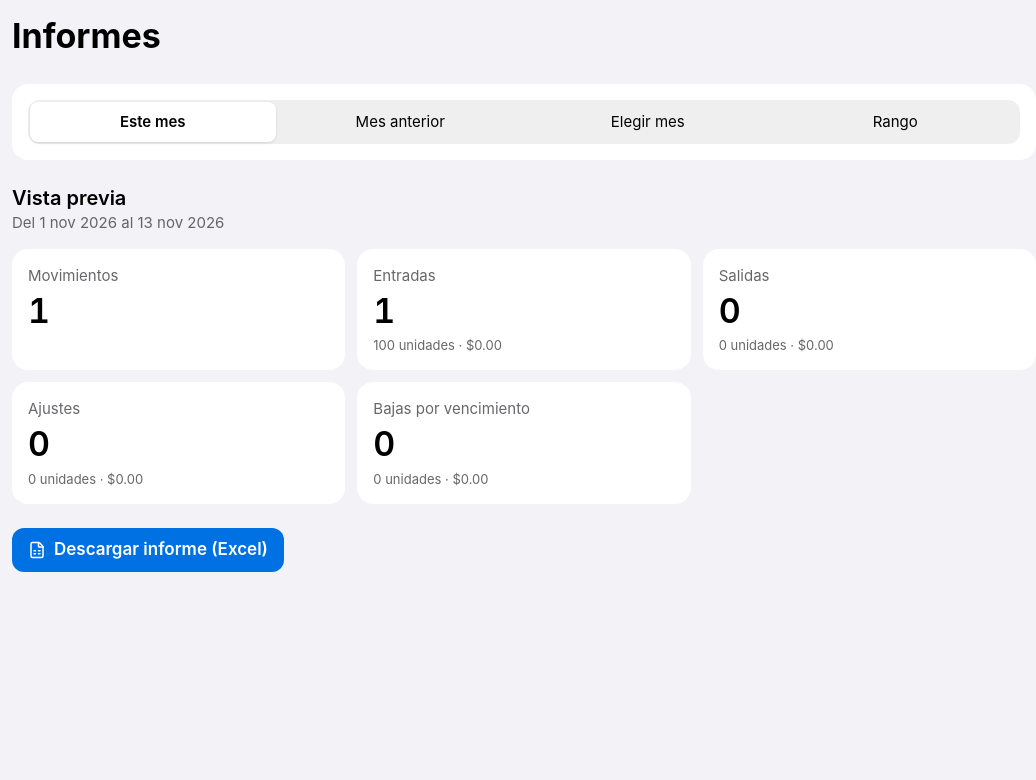
Test case: ReportsPage › downloads the generated file and revokes the object URL
Click the button "Descargar informe (Excel)" at (148, 550), box [12, 528, 284, 572]
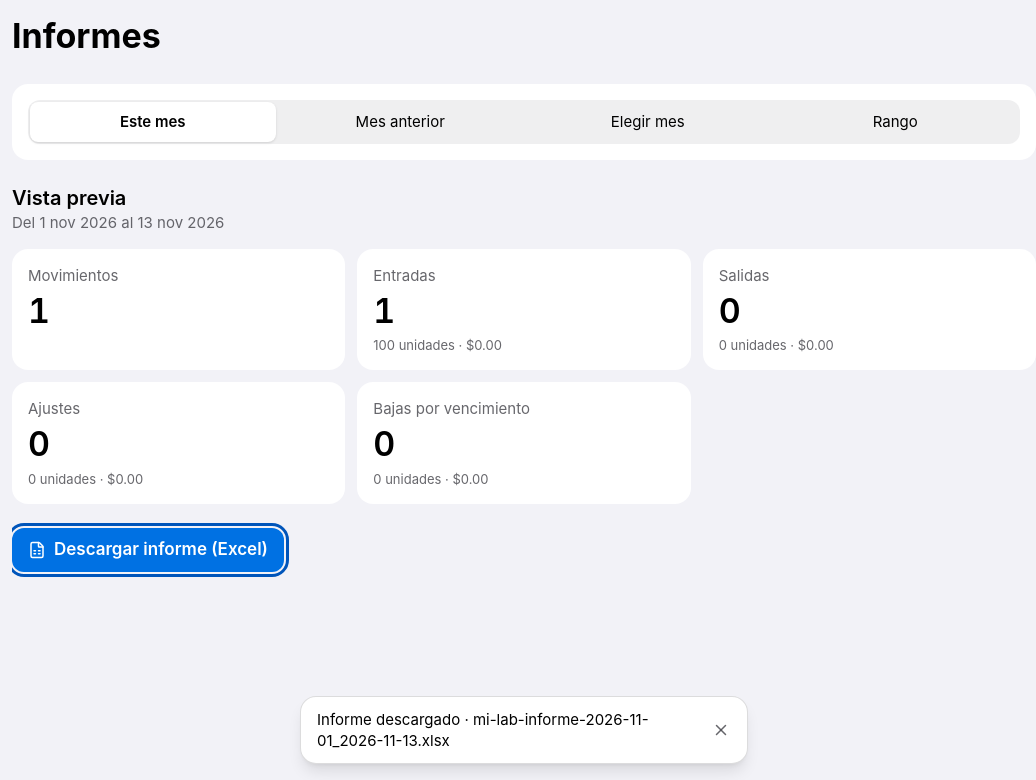
Expected: the text "Informe descargado · mi-lab-informe-2026-11-01_2026-11-13.xlsx" is shown, [317, 701, 695, 759]
